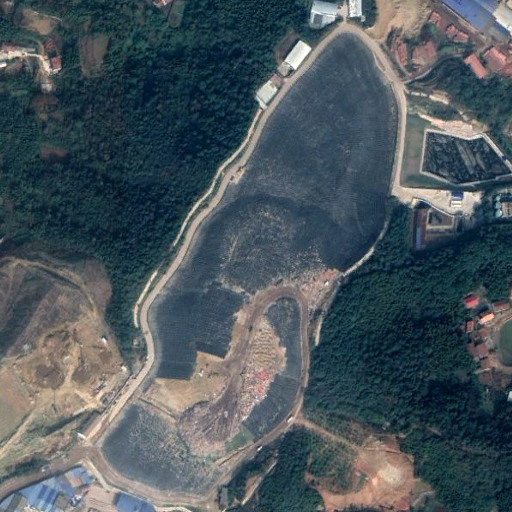lf: (89, 25, 403, 503)
